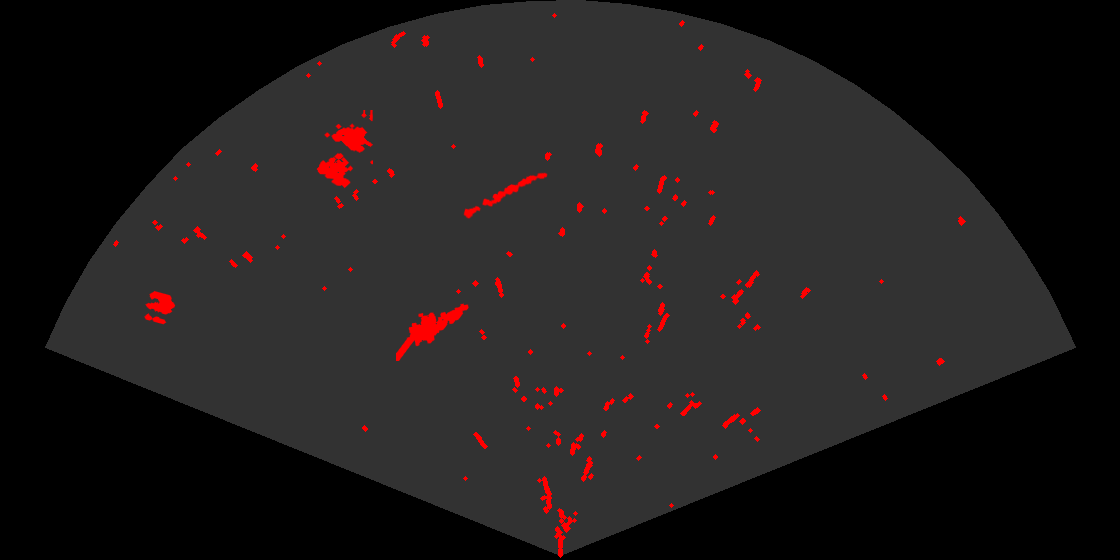ball: (143, 289, 177, 326)
cage: (315, 110, 373, 190)
chain: (462, 171, 549, 220)
frogman: (396, 302, 470, 361)
